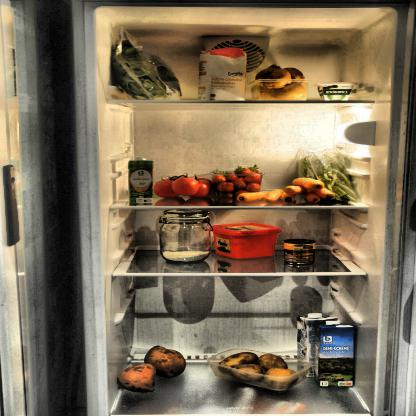butter: (209, 221, 279, 260)
carrot: (236, 177, 336, 205)
corn: (283, 238, 318, 268)
green_beans: (297, 149, 359, 204)
heavy_cream: (126, 160, 154, 207)
milk: (293, 312, 339, 381), (313, 321, 355, 392)
onion: (254, 62, 313, 103)
potato: (216, 346, 303, 388)
spinach: (114, 30, 181, 100)
strawberries: (213, 166, 264, 198)
sweet_potato: (118, 342, 190, 392)
tomato: (154, 173, 216, 200)
